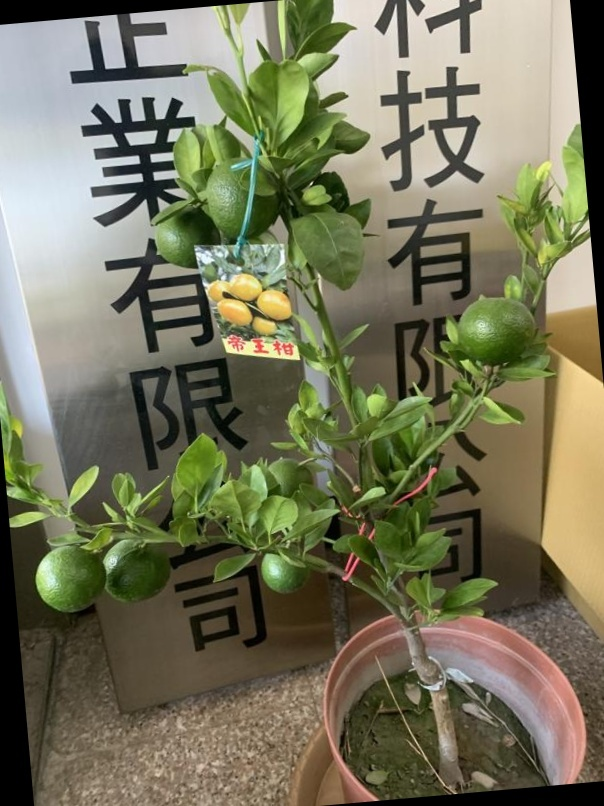Tangerine: (459, 293, 538, 367), (103, 532, 173, 607), (34, 548, 106, 614)
